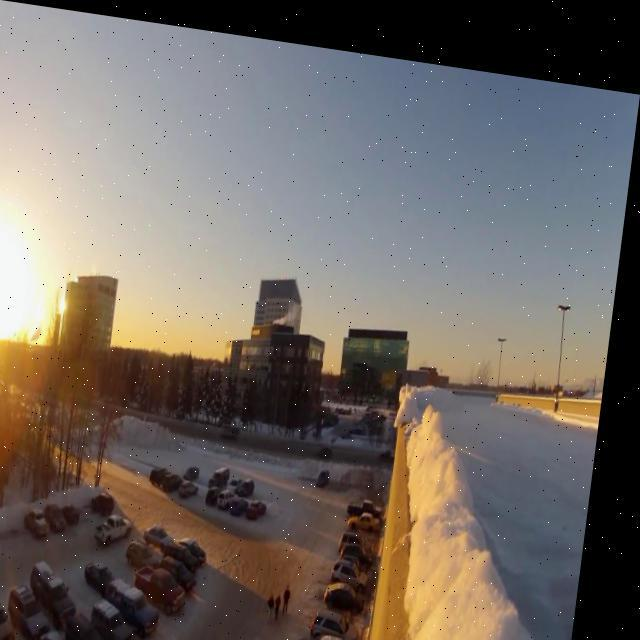Fire: (278, 298, 306, 318)
